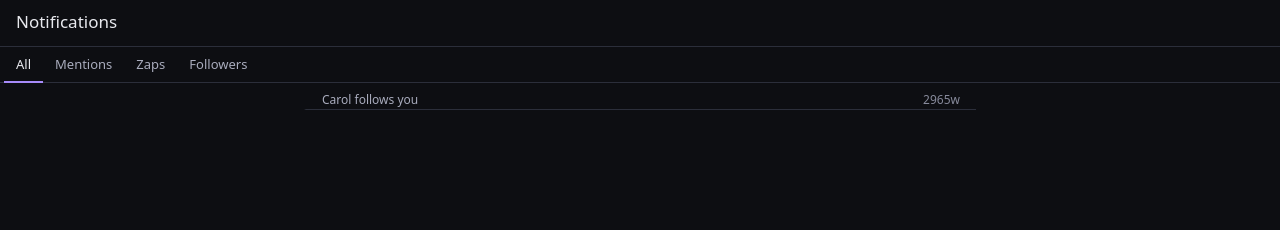
Test: NotificationsView: states › counts a follower held as a row for All, and not for Mentions
Check: the text "Carol follows you" is shown, box [322,91,418,109]
Click the tab "Mentions": x=84, y=65 [43,47,124,83]
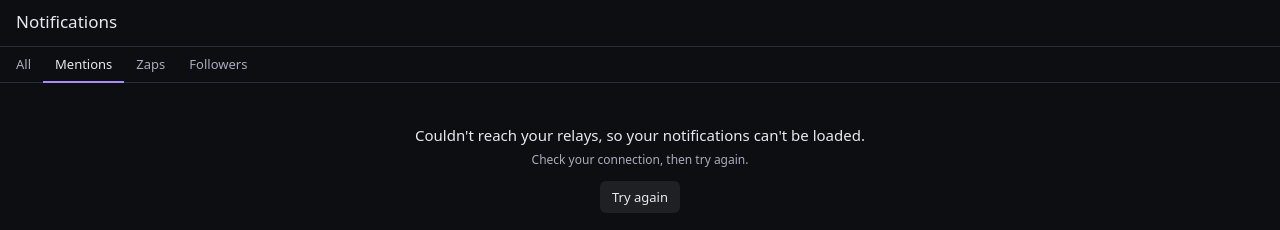
Check: the message is shown, box [415,125,865,213]
